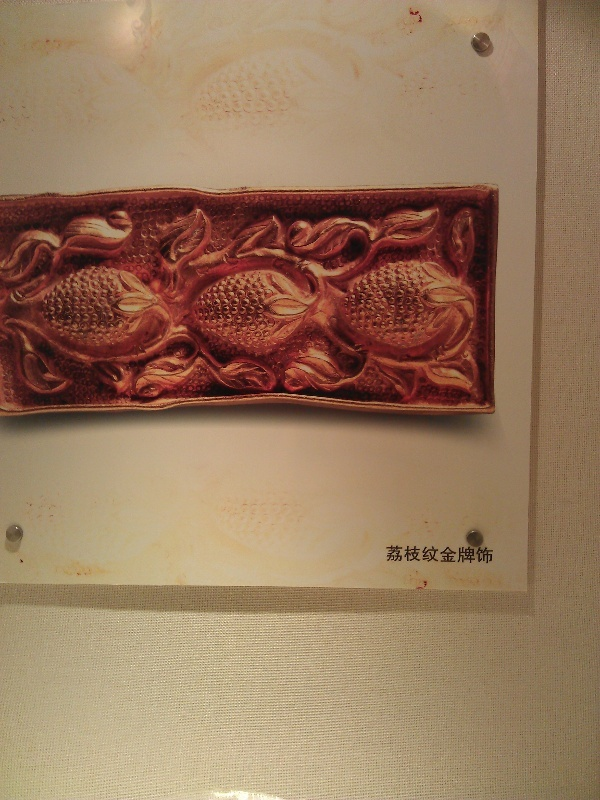text: (401, 544, 416, 565), (417, 544, 432, 565), (433, 544, 448, 565), (449, 544, 464, 565), (465, 544, 480, 565), (386, 544, 400, 565), (481, 544, 494, 565)
